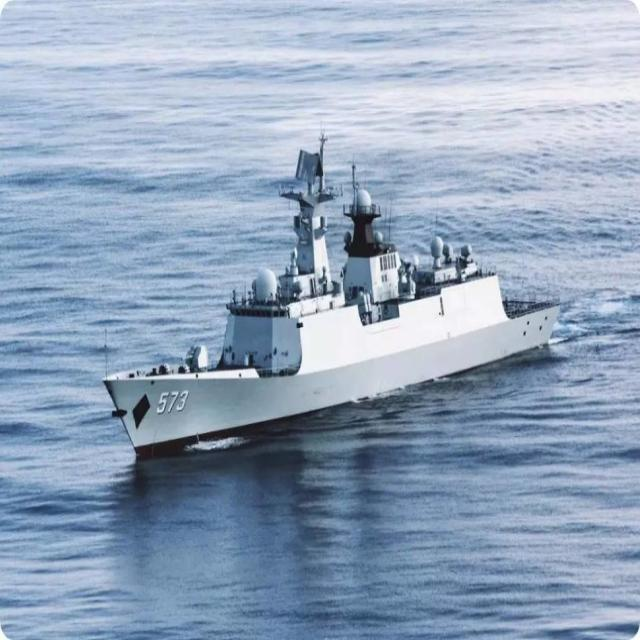navalvessels: (84, 123, 583, 463)
